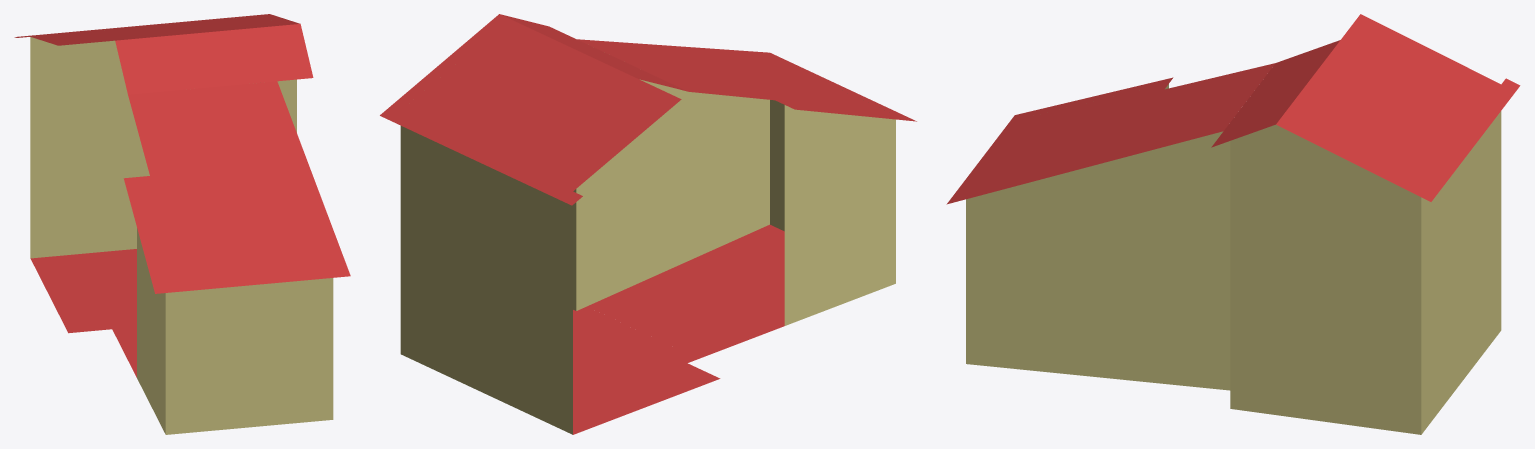
3 renders of one model, left to right at view 1: azimuth 30°, elevation 25°; view 2: azimuth 150°, elevation 25°; view 3: azimuth 270°, elevation 25°, orthographic. The views are drawn at different scales.
Bounding box in the file's own units: 12.68 × 18.78 × 10.73.
